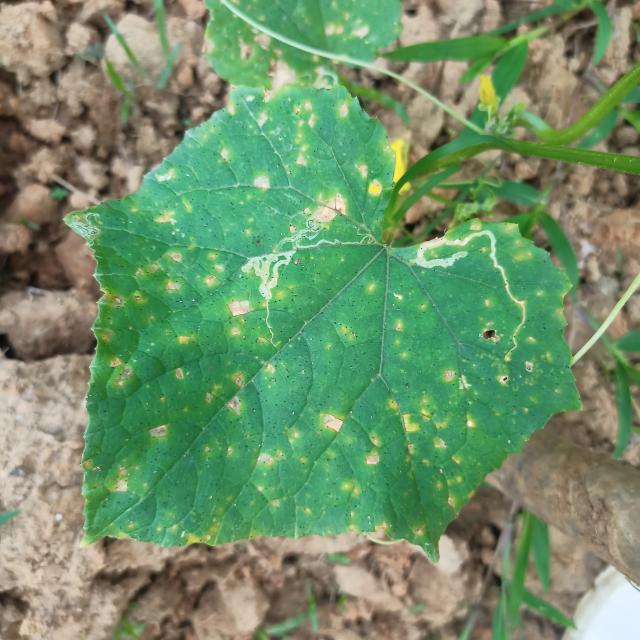disease_cucumber: (95, 94, 538, 532)
